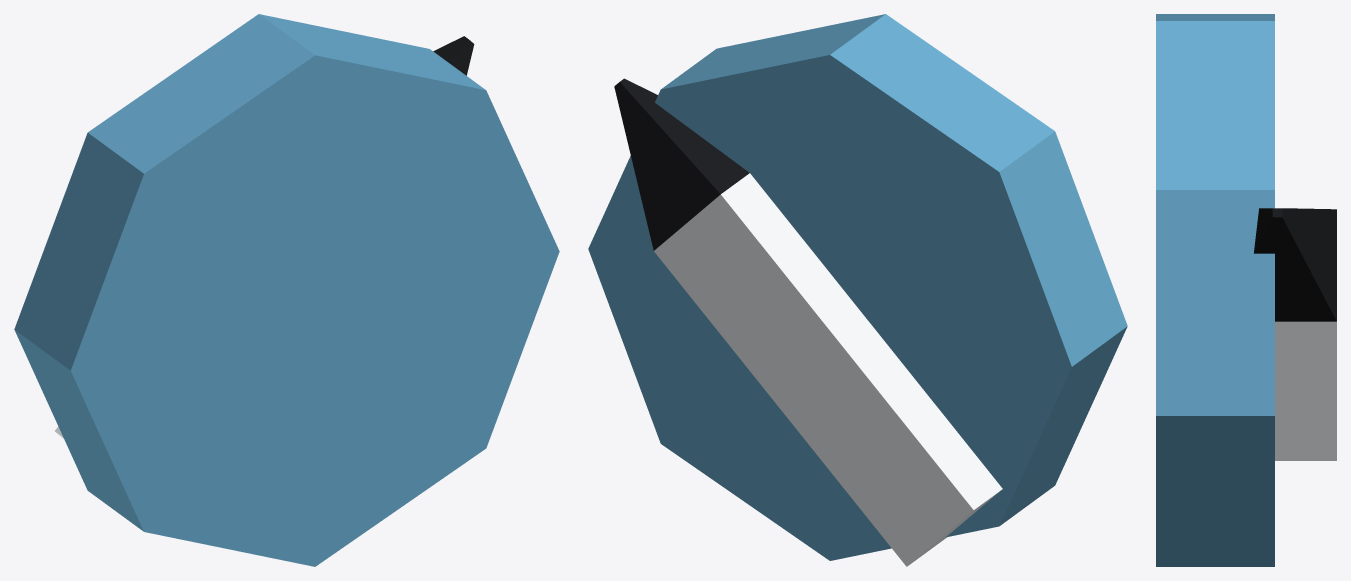
File: pickup_rocket.gltf
The picture shows the model from 3 angles, left to right: view 1: azimuth 30°, elevation 25°; view 2: azimuth 150°, elevation 25°; view 3: azimuth 270°, elevation 25°; orthographic projection. The views are drawn at different scales.
Parts seen in each view (by area): view 1: rocket_pickup, rocket_pickup_rocket; view 2: rocket_pickup, rocket_pickup_rocket; view 3: rocket_pickup, rocket_pickup_rocket.
Part boxes in pixels (x1=…): rocket_pickup: x1=14, y1=14, x2=559, y2=566; rocket_pickup_rocket: x1=55, y1=36, x2=474, y2=438; rocket_pickup: x1=588, y1=14, x2=1127, y2=560; rocket_pickup_rocket: x1=614, y1=78, x2=1002, y2=566; rocket_pickup: x1=1156, y1=14, x2=1274, y2=566; rocket_pickup_rocket: x1=1254, y1=208, x2=1336, y2=460.
Size of the model in its own units: 2 by 2 by 0.6089.
